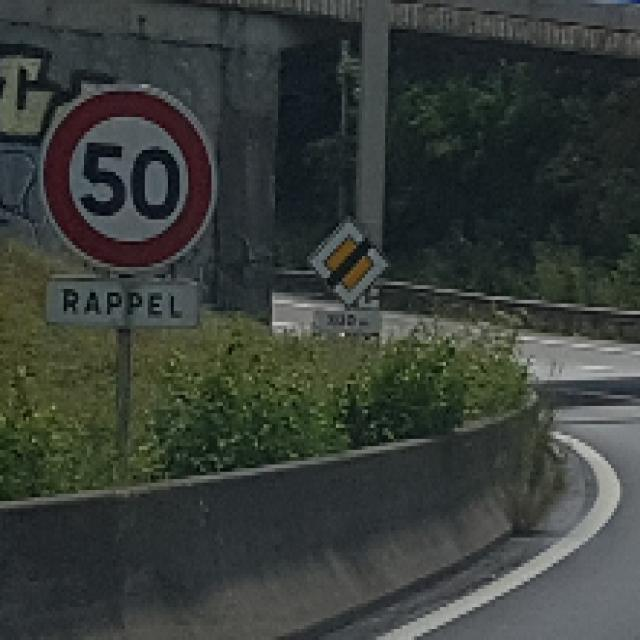speed_50: (36, 75, 220, 276)
